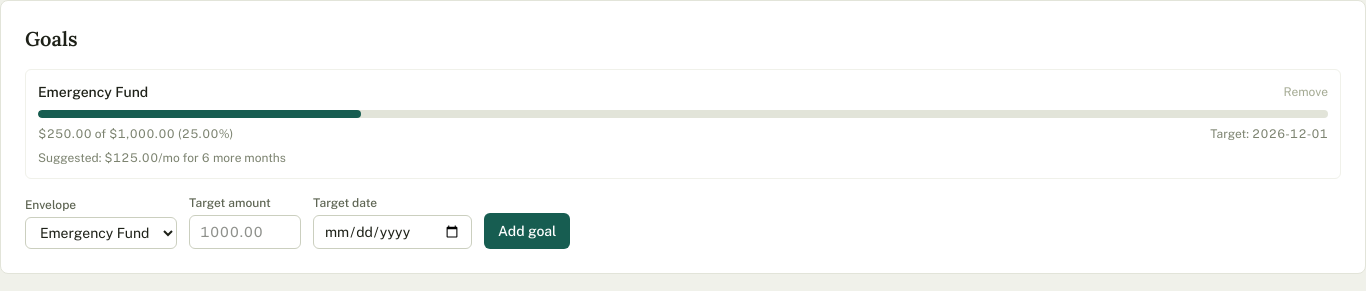
Test: GoalsPanel › removes a goal
Expected: the text "$250.00 of $1,000.00 (25.00%)" is shown, [38, 126, 233, 142]
Click the button "Remove" at (1306, 92), box [1284, 84, 1328, 100]
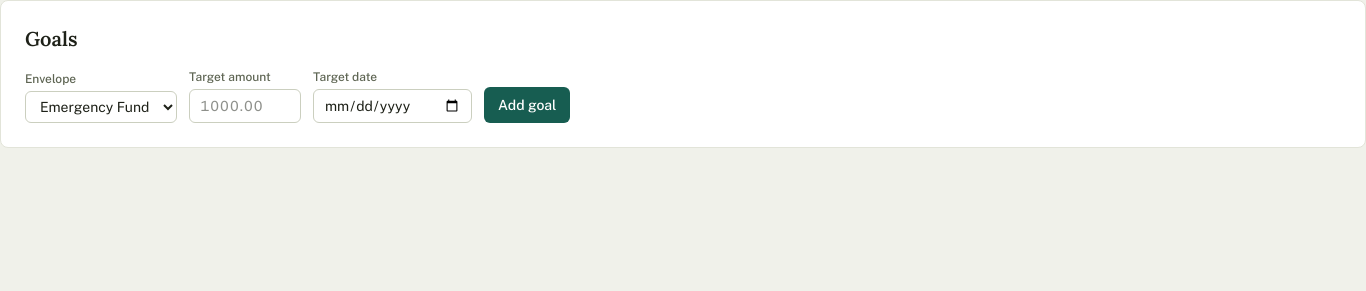
Result: the text "$250.00 of $1,000.00" is gone
